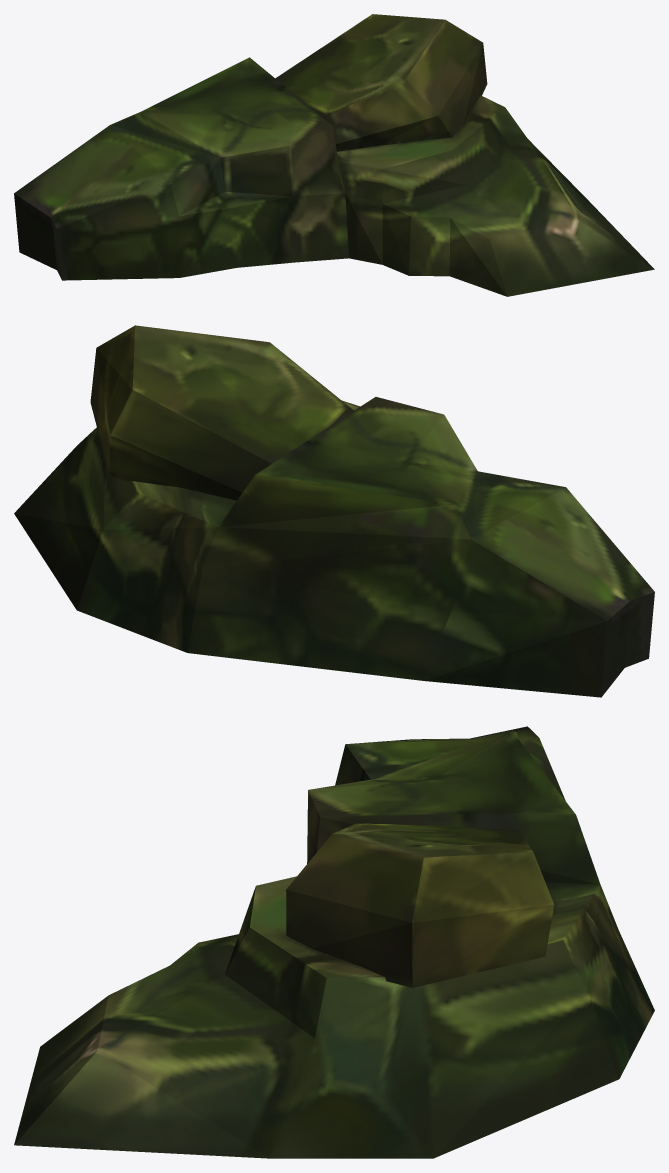
File: Swamp_shitou14.FBX
The picture shows the model from 3 angles, top to bottom: view 1: azimuth 30°, elevation 25°; view 2: azimuth 150°, elevation 25°; view 3: azimuth 270°, elevation 25°; orthographic projection. The views are drawn at different scales.
Visible parts, largest first — view 1: shitou14; view 2: shitou14; view 3: shitou14.
Boxes of the visible parts, bbox=[...] form: shitou14: bbox=[14, 14, 654, 296]; shitou14: bbox=[14, 325, 654, 697]; shitou14: bbox=[14, 726, 654, 1158].
Bounding box in the file's own units: 192 × 61.8 × 150.
